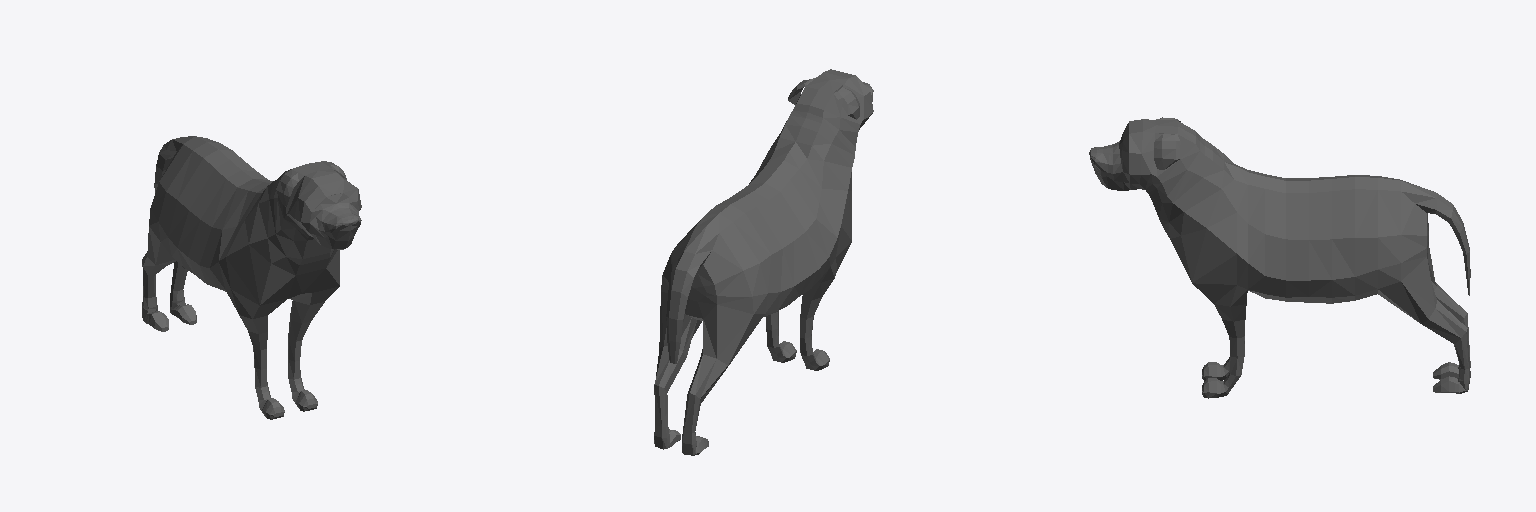
The model's file is dmodel.obj.
3 renders of one model, left to right at view 1: azimuth 30°, elevation 25°; view 2: azimuth 150°, elevation 25°; view 3: azimuth 270°, elevation 25°, orthographic.
Parts seen in each view (by area): view 1: pCylinder11; view 2: pCylinder11; view 3: pCylinder11.
Boxes of the visible parts, box(x1,y1,x2,y2) form: pCylinder11: box(142, 136, 361, 419); pCylinder11: box(654, 69, 873, 455); pCylinder11: box(1089, 117, 1470, 398).
Size of the model in its own units: 2.15 by 5.01 by 6.64.